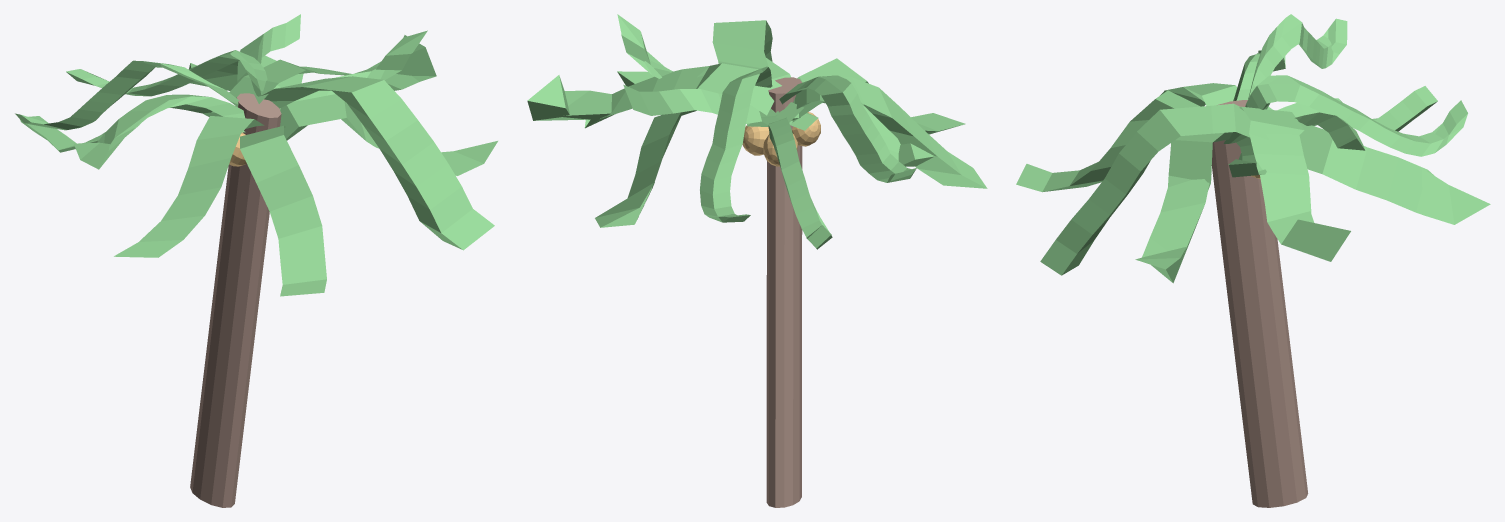
Rendered from palm_tree.glb.
The picture shows the model from 3 angles, left to right: view 1: azimuth 30°, elevation 25°; view 2: azimuth 150°, elevation 25°; view 3: azimuth 270°, elevation 25°; orthographic projection. The views are drawn at different scales.
Parts seen in each view (by area): view 1: group355623538, group311692419, group1041637316, group34800269, group1995046267, group697093927, group526812730, group250421346, group1319917614, group688583858, group1340146973, group1268797991 (+1 smaller); view 2: group355623538, group250421346, group1319917614, group526812730, group34800269, group204855513, group1268797991, group311692419, group1340146973, group697093927, group1041637316, group688583858 (+2 smaller); view 3: group355623538, group311692419, group250421346, group204855513, group1995046267, group1319917614, group1041637316, group526812730, group1268797991, group1340146973, group34800269, group688583858 (+1 smaller).
Part boxes in pixels (left/top/right/bottom): group355623538: left=190, top=93, right=281, bottom=507; group311692419: left=261, top=76, right=494, bottom=250; group1041637316: left=240, top=125, right=326, bottom=296; group34800269: left=114, top=116, right=264, bottom=257; group1995046267: left=280, top=94, right=497, bottom=175; group697093927: left=74, top=94, right=245, bottom=169; group526812730: left=15, top=60, right=239, bottom=130; group250421346: left=229, top=35, right=436, bottom=103; group1319917614: left=66, top=50, right=267, bottom=96; group688583858: left=279, top=30, right=427, bottom=109; group1340146973: left=237, top=14, right=300, bottom=82; group1268797991: left=20, top=104, right=222, bottom=152; group355623538: left=766, top=77, right=802, bottom=507; group250421346: left=527, top=63, right=781, bottom=128; group1319917614: left=700, top=66, right=772, bottom=222; group526812730: left=779, top=75, right=916, bottom=182; group34800269: left=792, top=76, right=987, bottom=188; group204855513: left=595, top=110, right=696, bottom=227; group1268797991: left=768, top=117, right=832, bottom=249; group311692419: left=712, top=20, right=778, bottom=117; group1340146973: left=623, top=84, right=761, bottom=123; group697093927: left=793, top=88, right=934, bottom=166; group1041637316: left=797, top=58, right=965, bottom=134; group688583858: left=617, top=14, right=672, bottom=78; group355623538: left=1211, top=100, right=1308, bottom=507; group311692419: left=1040, top=103, right=1250, bottom=275; group250421346: left=1239, top=106, right=1350, bottom=261; group204855513: left=1238, top=122, right=1490, bottom=224; group1995046267: left=1135, top=132, right=1232, bottom=283; group1319917614: left=1245, top=75, right=1467, bottom=156; group1041637316: left=1016, top=90, right=1200, bottom=192; group526812730: left=1248, top=14, right=1347, bottom=98; group1268797991: left=1277, top=86, right=1437, bottom=131; group1340146973: left=1295, top=112, right=1365, bottom=150; group34800269: left=1160, top=83, right=1236, bottom=106; group688583858: left=1223, top=132, right=1266, bottom=177.
Size of the model in its own units: 1.11 by 1.21 by 1.15.
